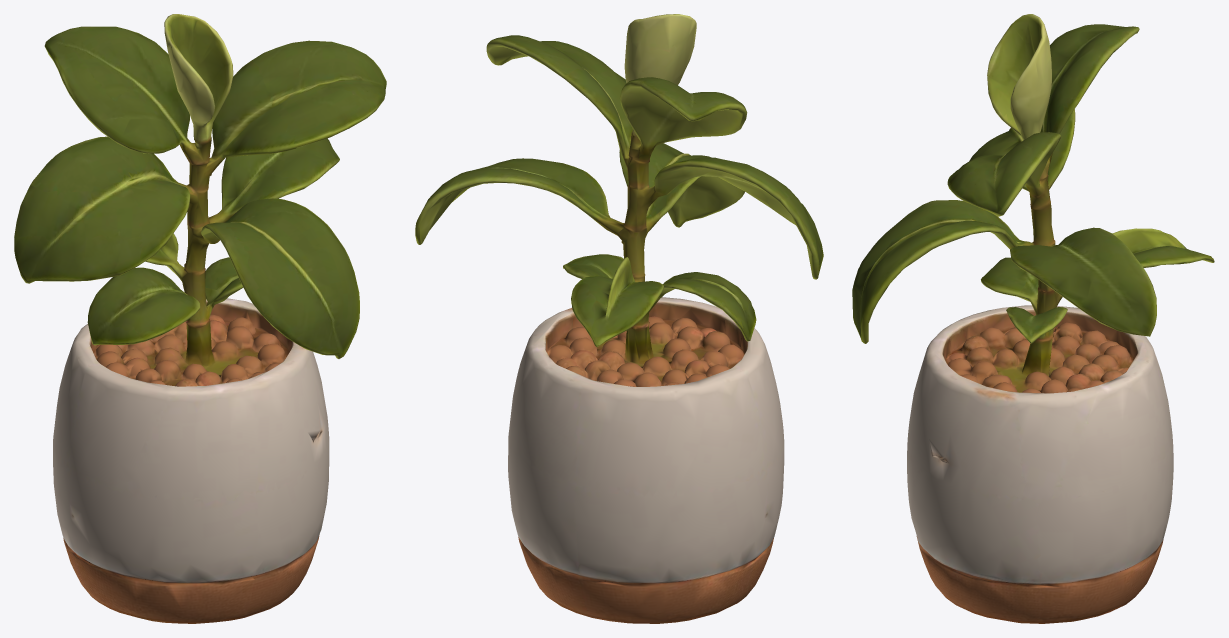
The model's file is plant-tall.medium.glb.
3 views of the same model, side by side, from view 1: azimuth 30°, elevation 25°; view 2: azimuth 150°, elevation 25°; view 3: azimuth 270°, elevation 25° (orthographic). The views are drawn at different scales.
Visible parts, largest first — view 1: tripo_node_f10ae956-6673-4ded-a62b-b8a8e37a01b8; view 2: tripo_node_f10ae956-6673-4ded-a62b-b8a8e37a01b8; view 3: tripo_node_f10ae956-6673-4ded-a62b-b8a8e37a01b8.
Boxes of the visible parts, bbox=[...] form: tripo_node_f10ae956-6673-4ded-a62b-b8a8e37a01b8: bbox=[14, 14, 386, 623]; tripo_node_f10ae956-6673-4ded-a62b-b8a8e37a01b8: bbox=[415, 14, 823, 623]; tripo_node_f10ae956-6673-4ded-a62b-b8a8e37a01b8: bbox=[852, 14, 1214, 623].
Bounding box in the file's own units: 0.8679 × 1.35 × 0.7996.
Materials: 1 (1 with a texture image).
